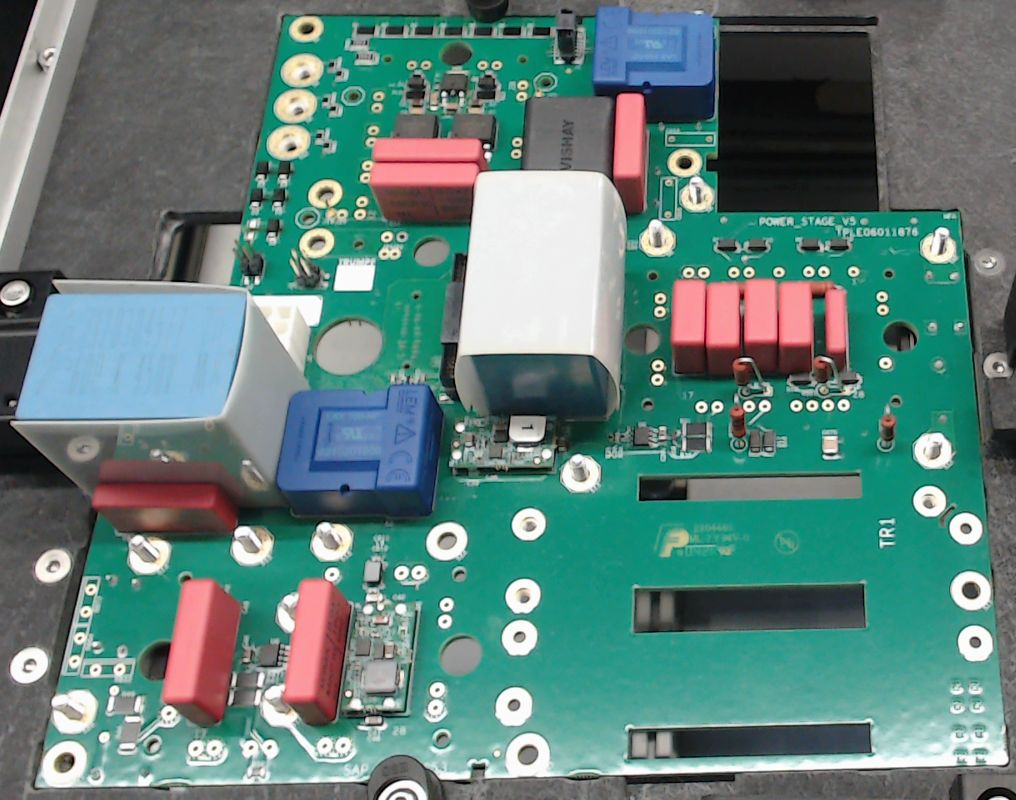comp1: (273, 382, 445, 518), (593, 4, 717, 122)
comp2: (158, 575, 245, 724), (284, 578, 352, 724), (87, 485, 238, 536), (367, 161, 479, 223), (612, 91, 647, 213), (671, 280, 707, 377), (743, 276, 779, 371), (706, 278, 741, 375), (778, 277, 813, 374), (367, 136, 485, 161), (823, 285, 848, 371)
comp3: (523, 94, 612, 174)
comp4: (8, 275, 308, 511), (454, 171, 627, 423)
